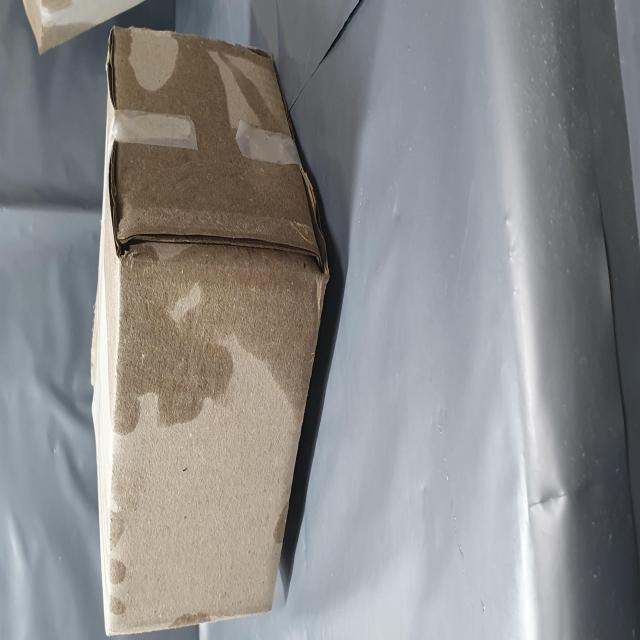wet: (120, 184, 341, 575)
